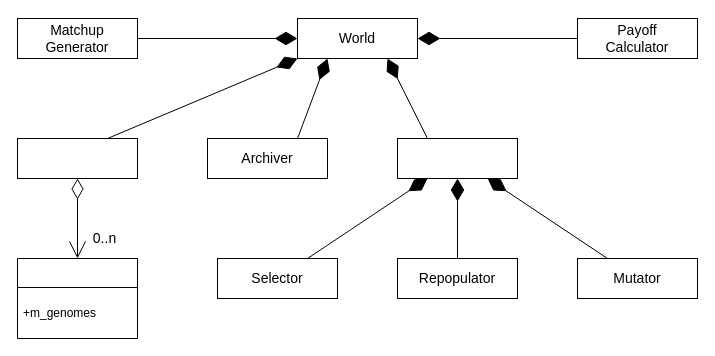
Image size: 715x356. Some labels were removed from this diagram. The box of each missing label's shape, as (x1, y1, x2, y2) in pixels:
Grid: (16, 138, 138, 178)
Optimizer: (396, 138, 518, 178)
Organisms: (16, 258, 138, 338)
